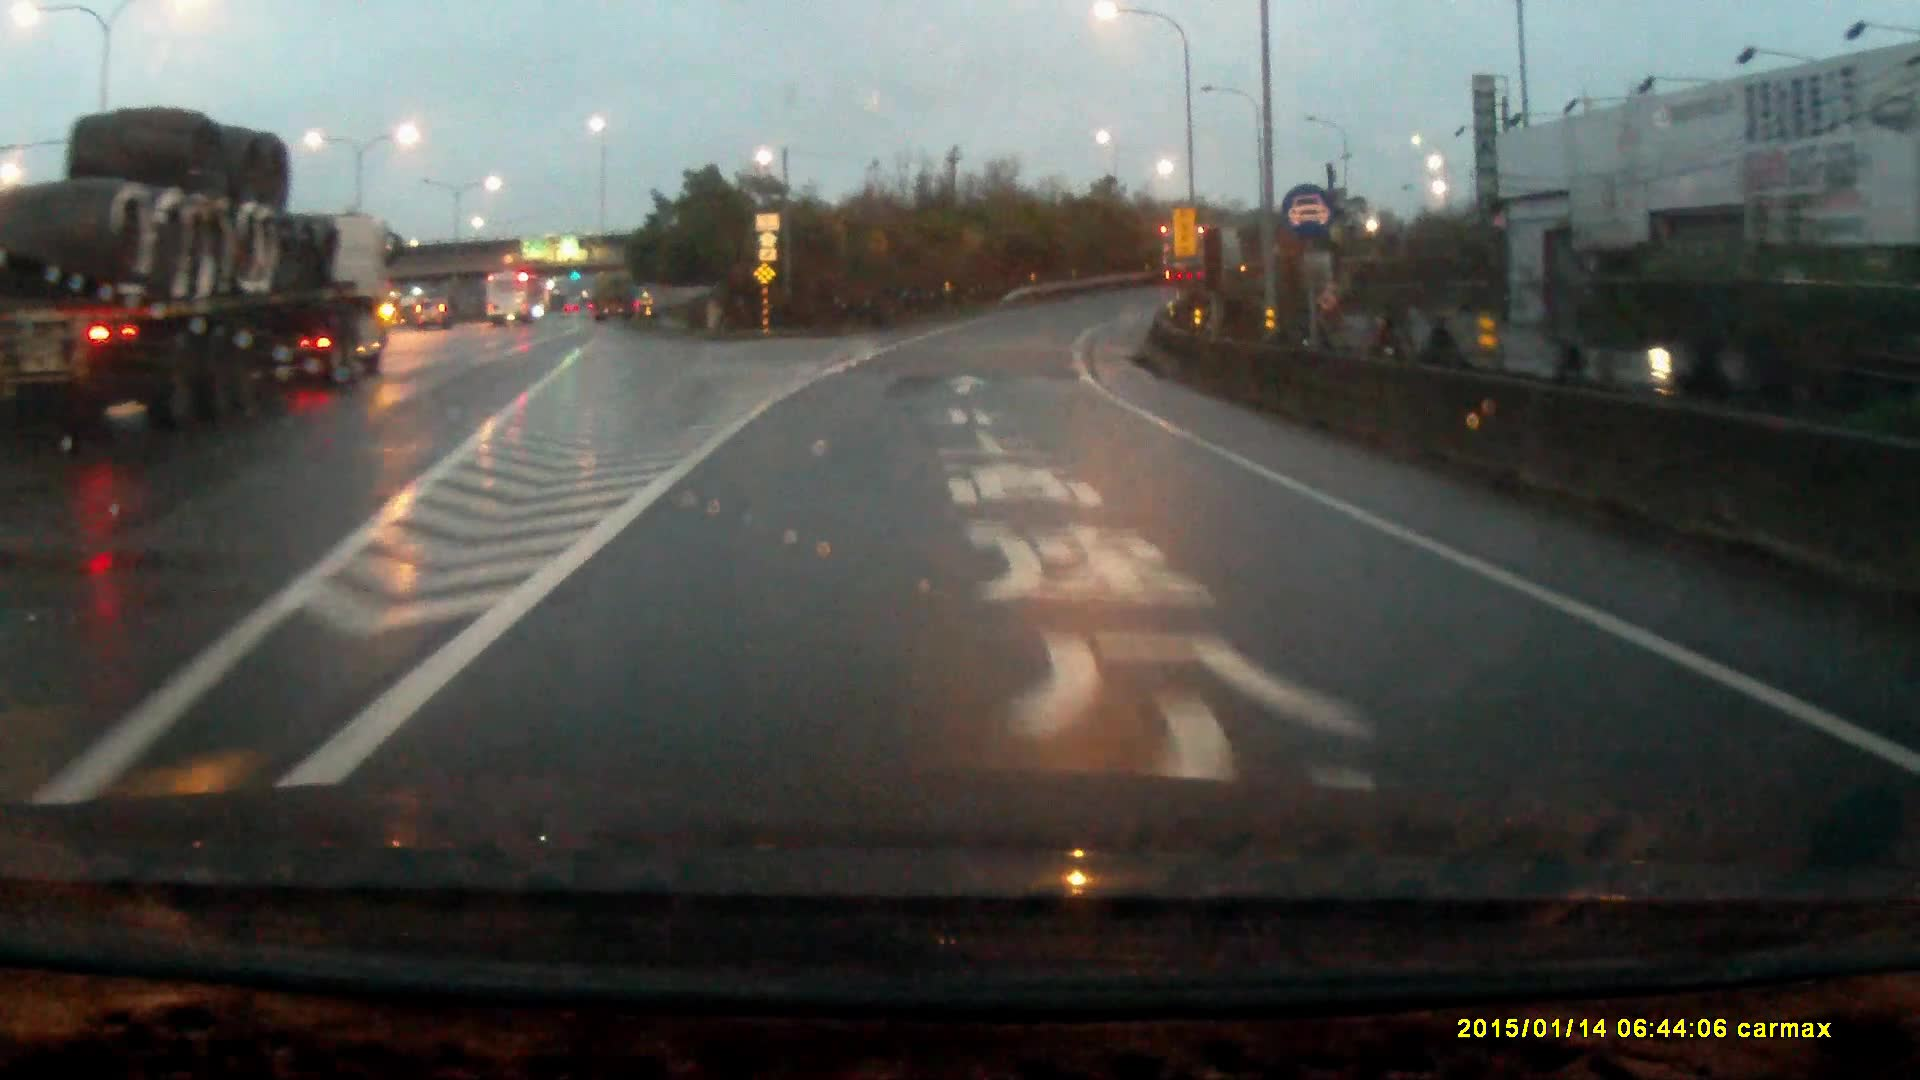vehicle: (3, 111, 389, 436), (487, 276, 546, 331), (415, 298, 454, 334)
